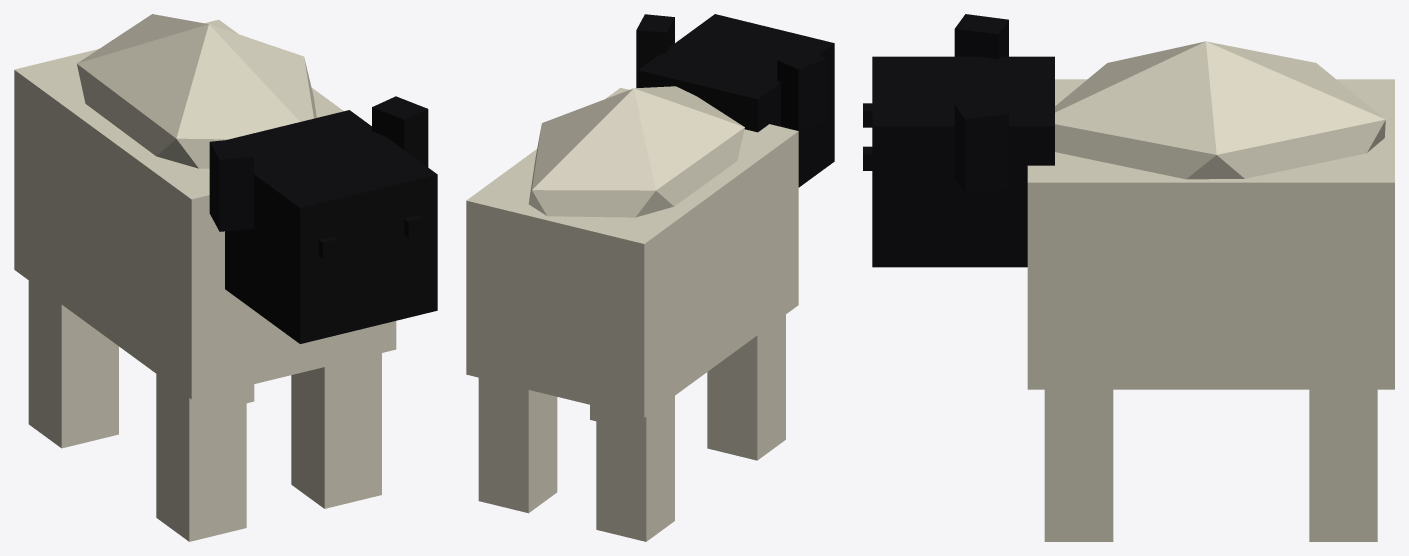
File: lamb.obj
3 views of the same model, side by side, from view 1: azimuth 30°, elevation 25°; view 2: azimuth 150°, elevation 25°; view 3: azimuth 270°, elevation 25° (orthographic). The views are drawn at different scales.
Parts seen in each view (by area): view 1: lamb; view 2: lamb; view 3: lamb.
Part boxes in pixels (x1,y1,x2,y2): lamb: (14,14,437,541); lamb: (466,14,834,541); lamb: (863,14,1394,541).
Size of the model in its own units: 0.3057 by 0.6118 by 0.6516.
